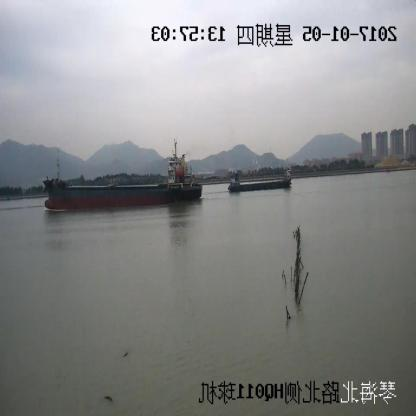Bulk Carrier: (44, 141, 203, 212), (229, 166, 291, 192)
